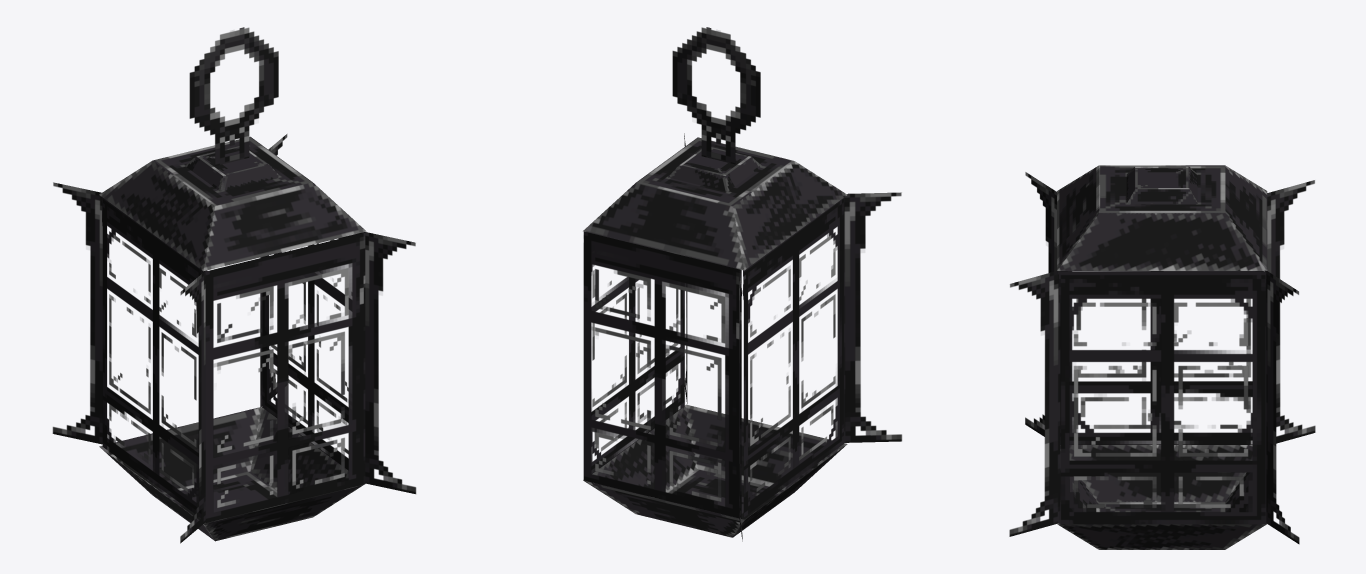
The model's file is torchlamp.glb.
3 views of the same model, side by side, from view 1: azimuth 30°, elevation 25°; view 2: azimuth 150°, elevation 25°; view 3: azimuth 270°, elevation 25° (orthographic).
Visible parts, largest first — view 1: frontplane_geo, tophalf_geo, bottomhalf_geo, sideplane_geo, chain_geo, sideplane2_geo, sidedetail4_geo, sidedetail1_geo, sidedetail3_geo, handle_geo, sidedetail2_geo; view 2: backplane_geo, tophalf_geo, sideplane_geo, bottomhalf_geo, sideplane2_geo, chain_geo, sidedetail3_geo, handle_geo; view 3: sideplane2_geo, tophalf_geo, bottomhalf_geo, sideplane_geo, sidedetail4_geo, sidedetail2_geo, sidedetail1_geo, handle_geo, sidedetail3_geo.
Part boxes in pixels (left/top/right/bottom): frontplane_geo: left=205, top=232, right=365, bottom=522; tophalf_geo: left=99, top=136, right=366, bottom=271; bottomhalf_geo: left=99, top=406, right=365, bottom=541; sideplane_geo: left=102, top=197, right=204, bottom=517; chain_geo: left=189, top=27, right=278, bottom=165; sideplane2_geo: left=262, top=232, right=361, bottom=470; sidedetail4_geo: left=362, top=232, right=416, bottom=494; sidedetail1_geo: left=52, top=182, right=102, bottom=444; sidedetail3_geo: left=180, top=270, right=207, bottom=543; handle_geo: left=185, top=145, right=280, bottom=191; sidedetail2_geo: left=260, top=134, right=287, bottom=407; backplane_geo: left=584, top=231, right=741, bottom=518; tophalf_geo: left=583, top=137, right=847, bottom=270; sideplane_geo: left=743, top=198, right=844, bottom=517; bottomhalf_geo: left=583, top=404, right=847, bottom=537; sideplane2_geo: left=583, top=231, right=684, bottom=479; chain_geo: left=672, top=27, right=760, bottom=164; sidedetail3_geo: left=844, top=192, right=901, bottom=442; handle_geo: left=668, top=147, right=762, bottom=191; sideplane2_geo: left=1059, top=271, right=1266, bottom=524; tophalf_geo: left=1057, top=165, right=1267, bottom=270; bottomhalf_geo: left=1057, top=444, right=1266, bottom=549; sideplane_geo: left=1060, top=271, right=1263, bottom=444; sidedetail4_geo: left=1009, top=271, right=1060, bottom=536; sidedetail2_geo: left=1266, top=271, right=1299, bottom=544; sidedetail1_geo: left=1265, top=180, right=1315, bottom=443; handle_geo: left=1126, top=166, right=1197, bottom=203; sidedetail3_geo: left=1025, top=172, right=1056, bottom=436.
Size of the model in its own units: 0.3657 by 0.5456 by 0.3895.
12 materials, 12 textured.
